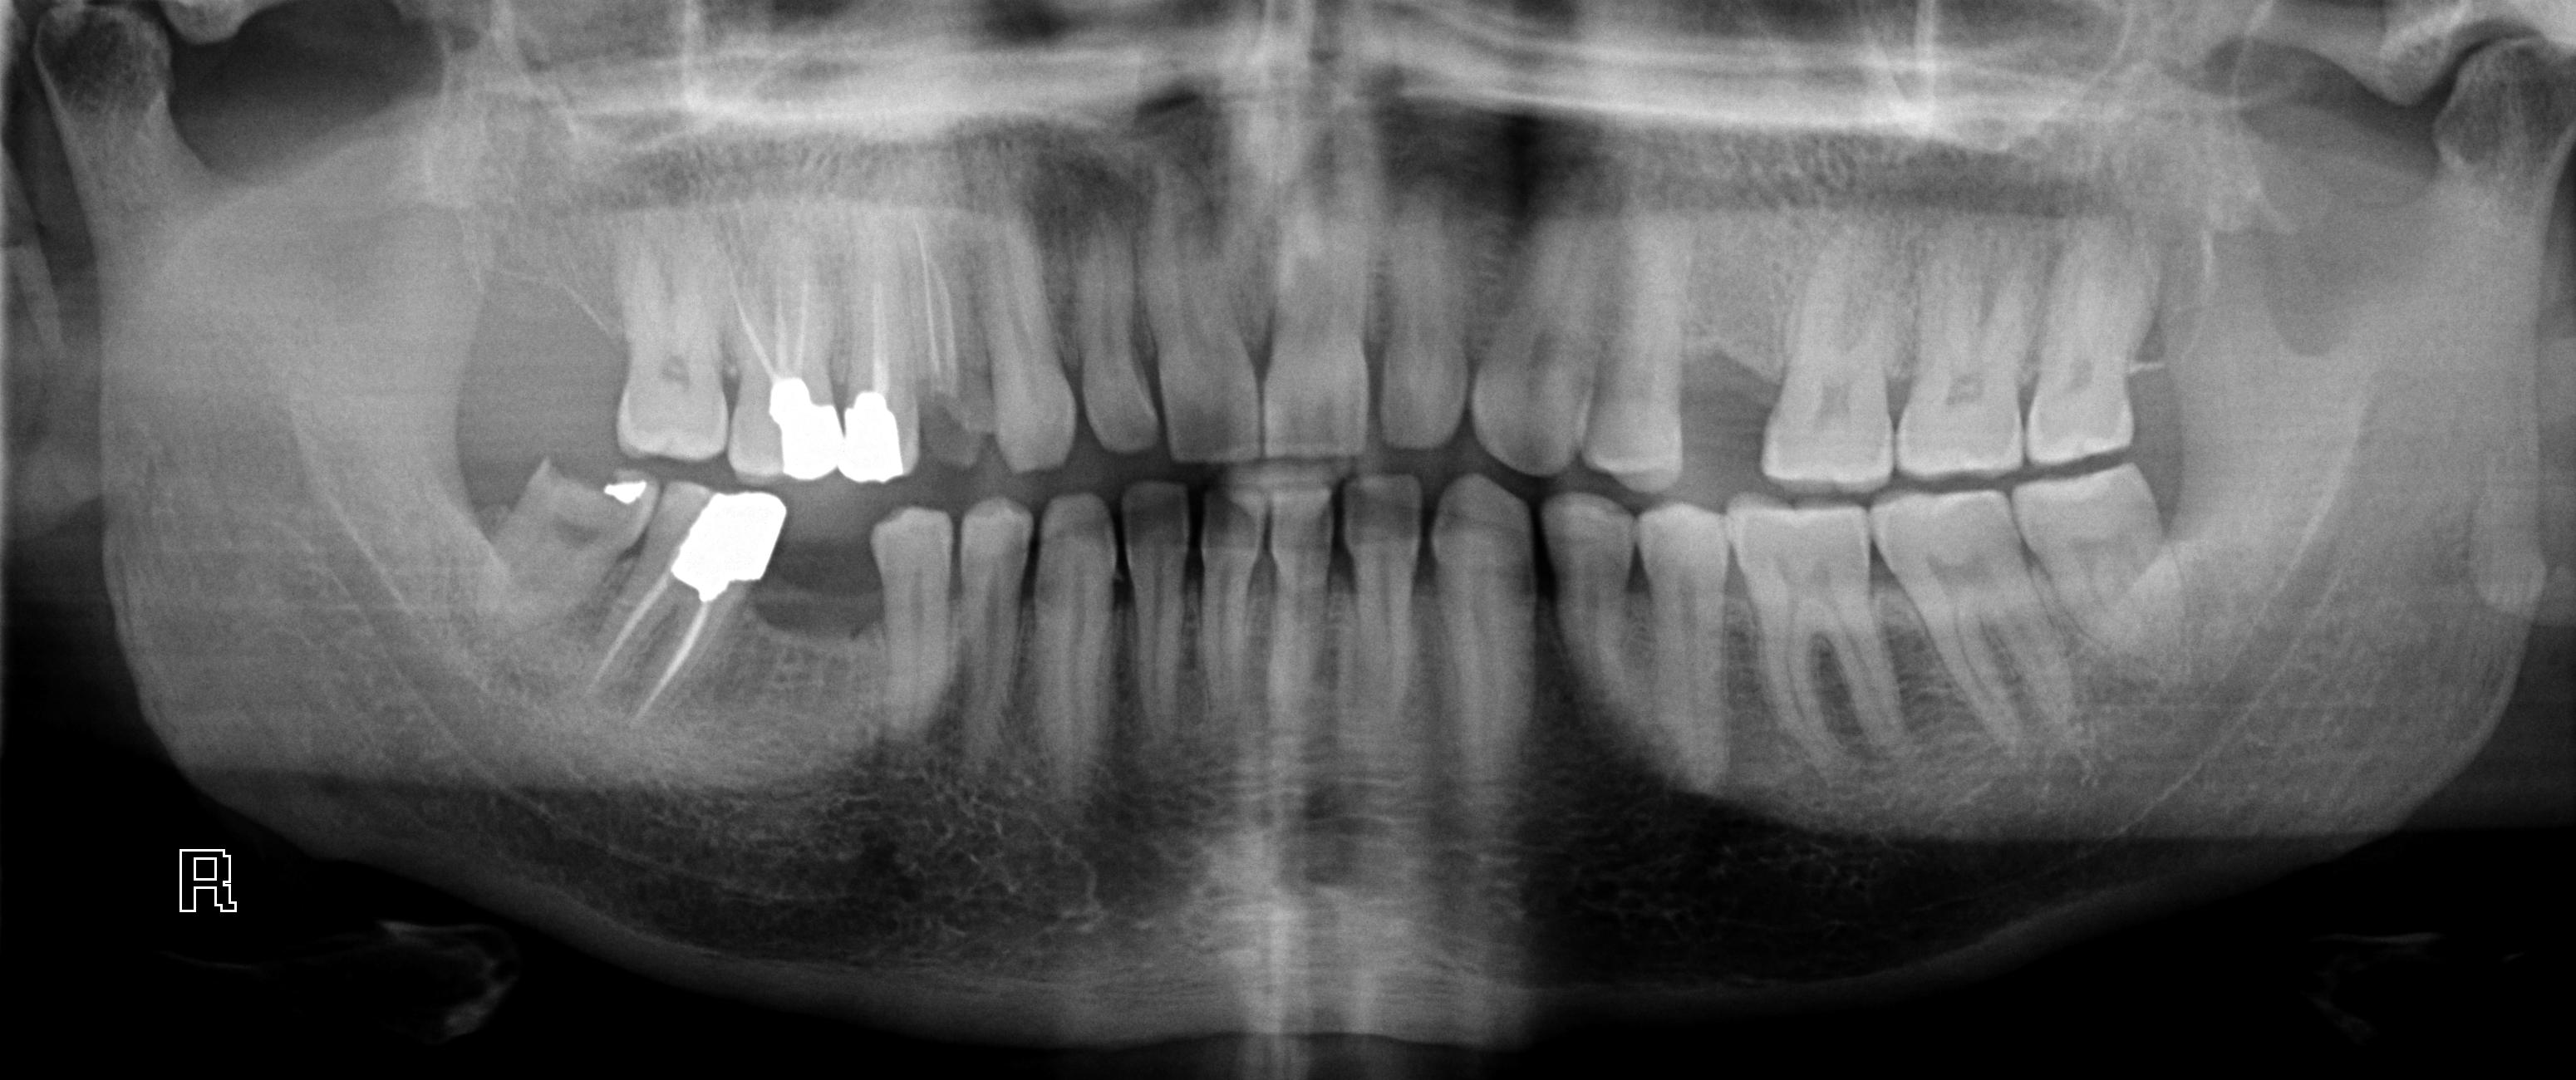Çürük: (654, 474, 803, 609), (761, 348, 839, 487), (833, 378, 908, 499), (586, 460, 657, 514)
Çürük Bölgesi: (540, 445, 623, 507), (917, 396, 977, 466)
